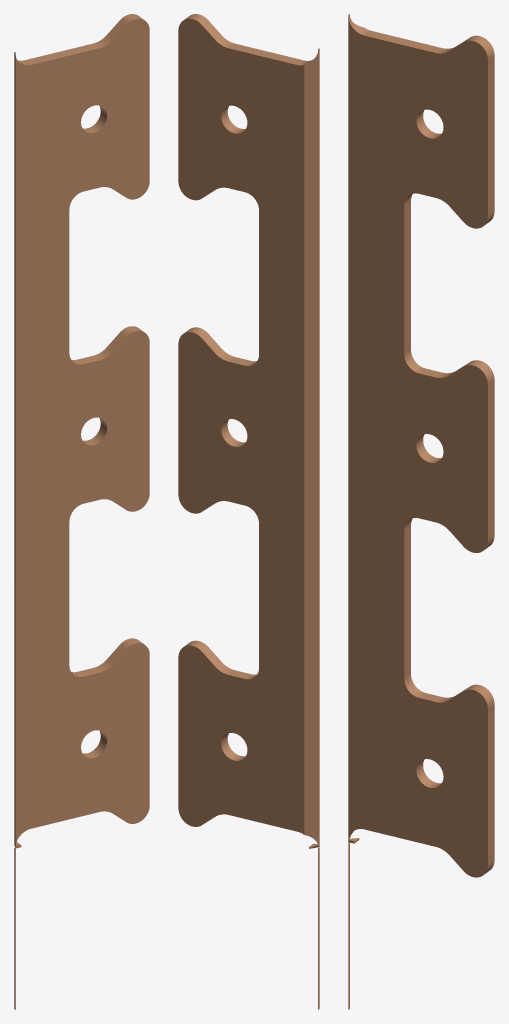
The model's file is narrow-panel-body-flap.glb.
3 renders of one model, left to right at view 1: azimuth 30°, elevation 25°; view 2: azimuth 150°, elevation 25°; view 3: azimuth 330°, elevation 25°, orthographic. The views are drawn at different scales.
Visible parts, largest first — view 1: narrow-panel-body-flap; view 2: narrow-panel-body-flap; view 3: narrow-panel-body-flap.
Boxes of the visible parts, x1,y1,x2,y2 form: narrow-panel-body-flap: (14, 14, 149, 1009); narrow-panel-body-flap: (178, 14, 319, 1009); narrow-panel-body-flap: (348, 14, 494, 1009).
Size of the model in its own units: 108 by 741 by 9.
